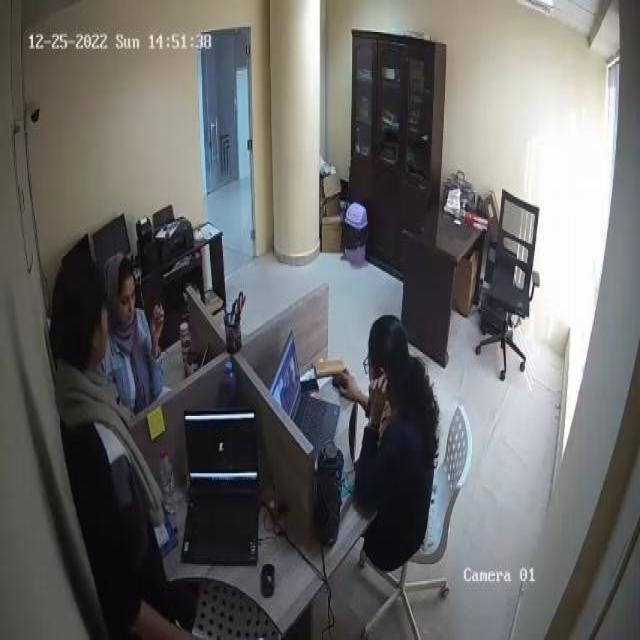bare_hand: (366, 374, 397, 441), (141, 295, 170, 355), (335, 360, 368, 409)
